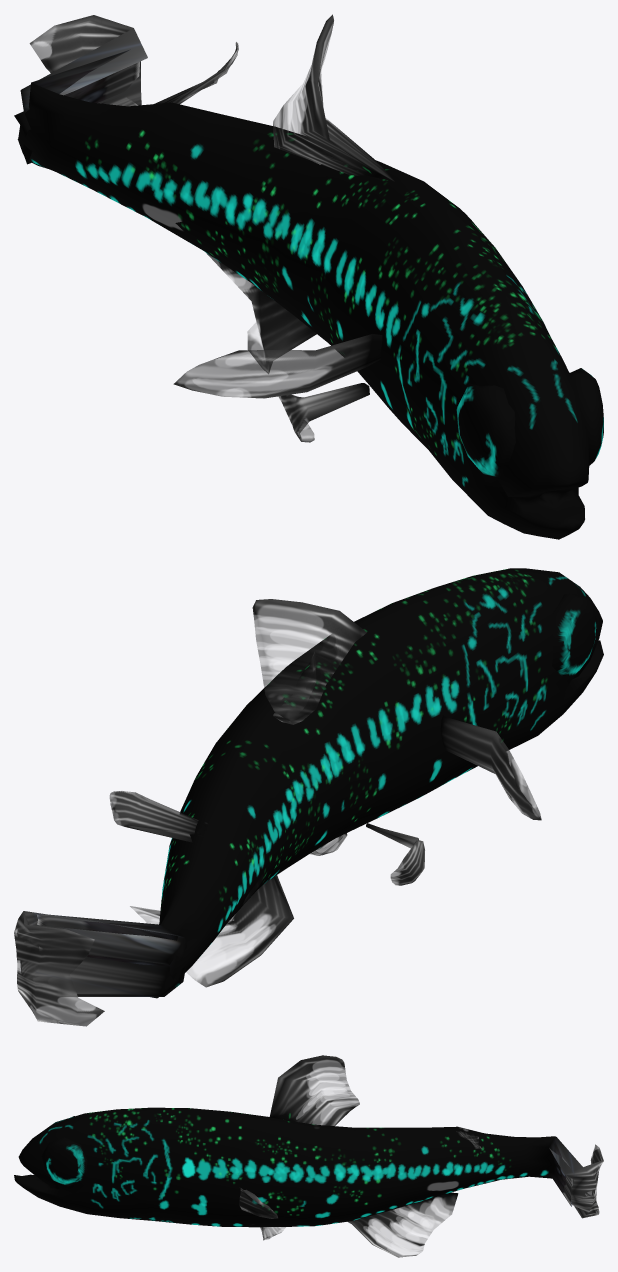
File: lanternfish.glb
3 renders of one model, top to bottom at view 1: azimuth 30°, elevation 25°; view 2: azimuth 150°, elevation 25°; view 3: azimuth 270°, elevation 25°, orthographic. The views are drawn at different scales.
Visible parts, largest first — view 1: LanternFish_GEOShape; view 2: LanternFish_GEOShape; view 3: LanternFish_GEOShape.
Part boxes in pixels (left/top/right/bottom): LanternFish_GEOShape: left=14, top=14, right=603, bottom=539; LanternFish_GEOShape: left=14, top=568, right=603, bottom=1026; LanternFish_GEOShape: left=14, top=1055, right=603, bottom=1257.
Bounding box in the file's own units: 8.54 × 9.05 × 23.9.
1 material, 1 textured.
